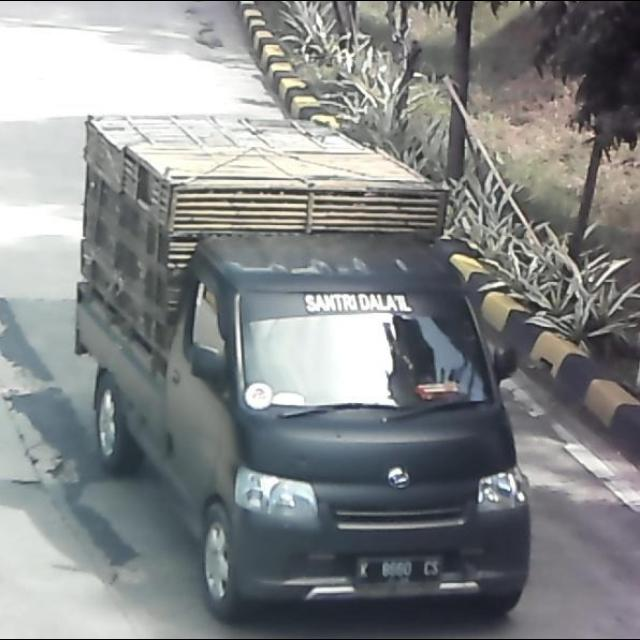plate: (352, 555, 448, 597)
